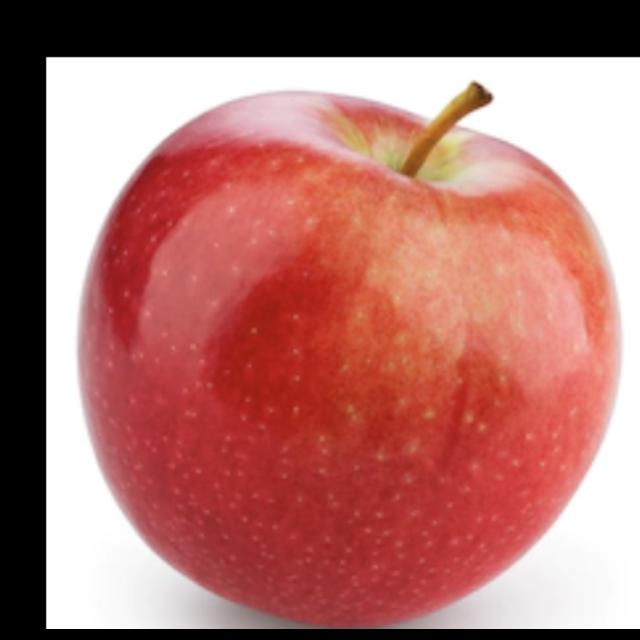Apel Segar: (75, 88, 625, 629)
